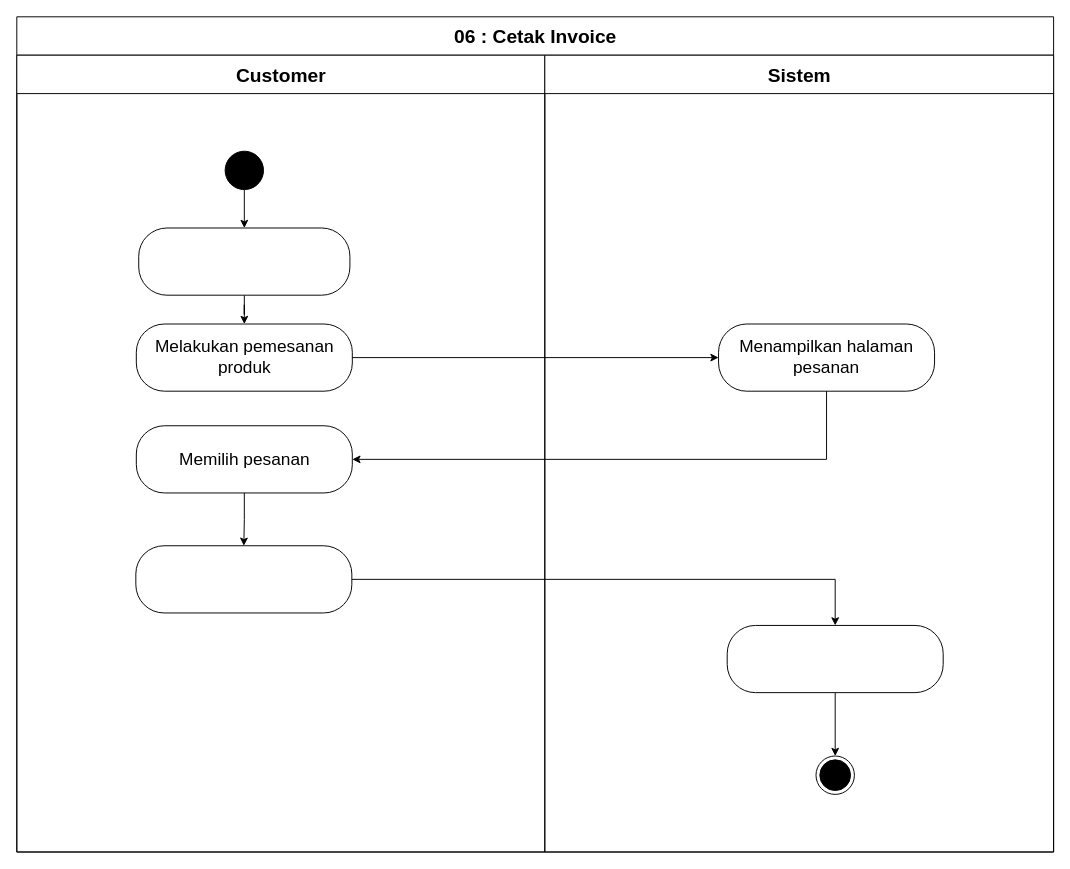
The diagram is 1070 pixels wide and 869 high, and some of its shapes have lost their labels. Here are the shapes that lost their labels. From the top down, the centre of each, then its label:
At point (244, 261): "Masuk ke halaman utama".
At point (243, 579): "Memilih menu cetak invoice".
At point (834, 658): "Mencetak invoice ke lokal komputer".
